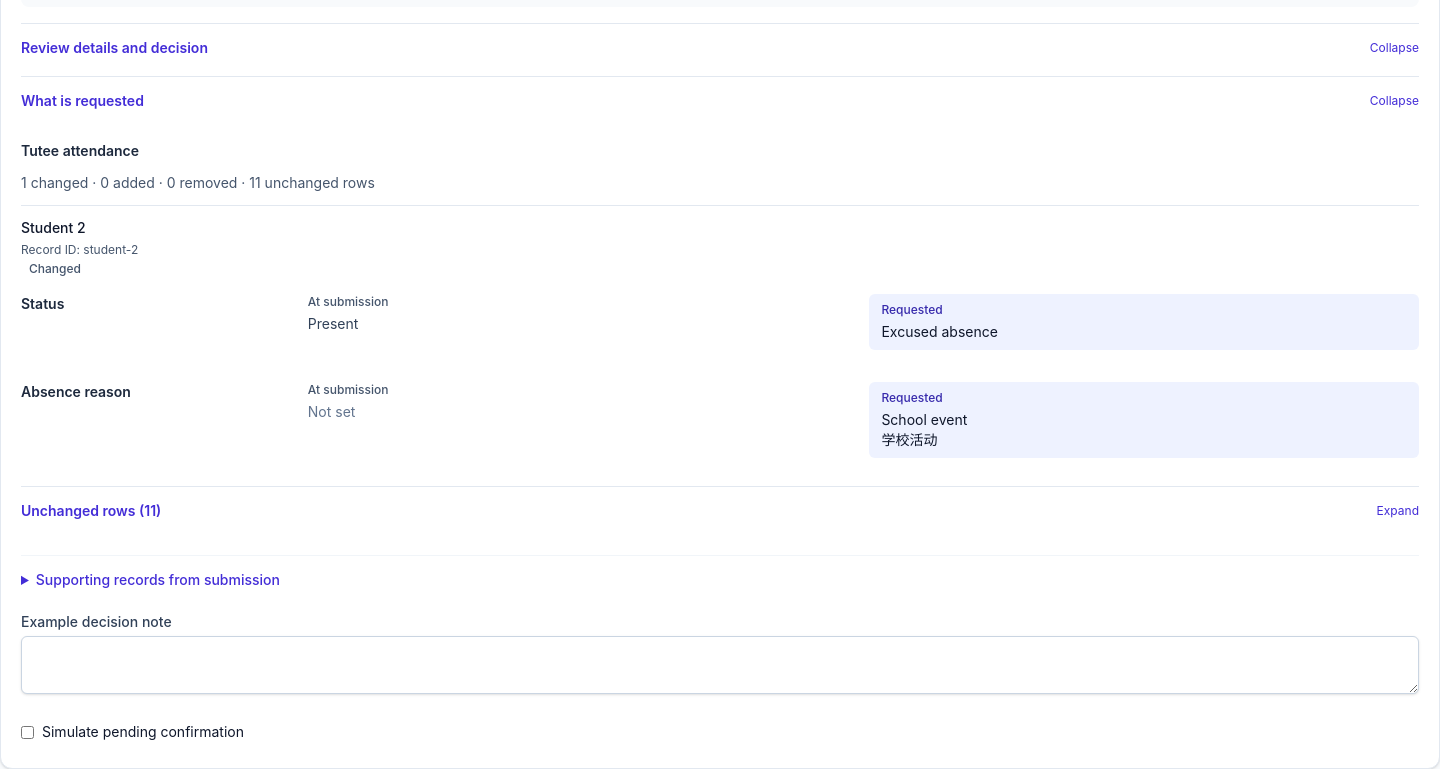
it: shows one changed attendance child and keeps the unchanged roster expandable (en)
(page scrolled)
Click the button "Unchanged rows (11) Expand": (91, 510) [21,495,1419,527]
(page scrolled)
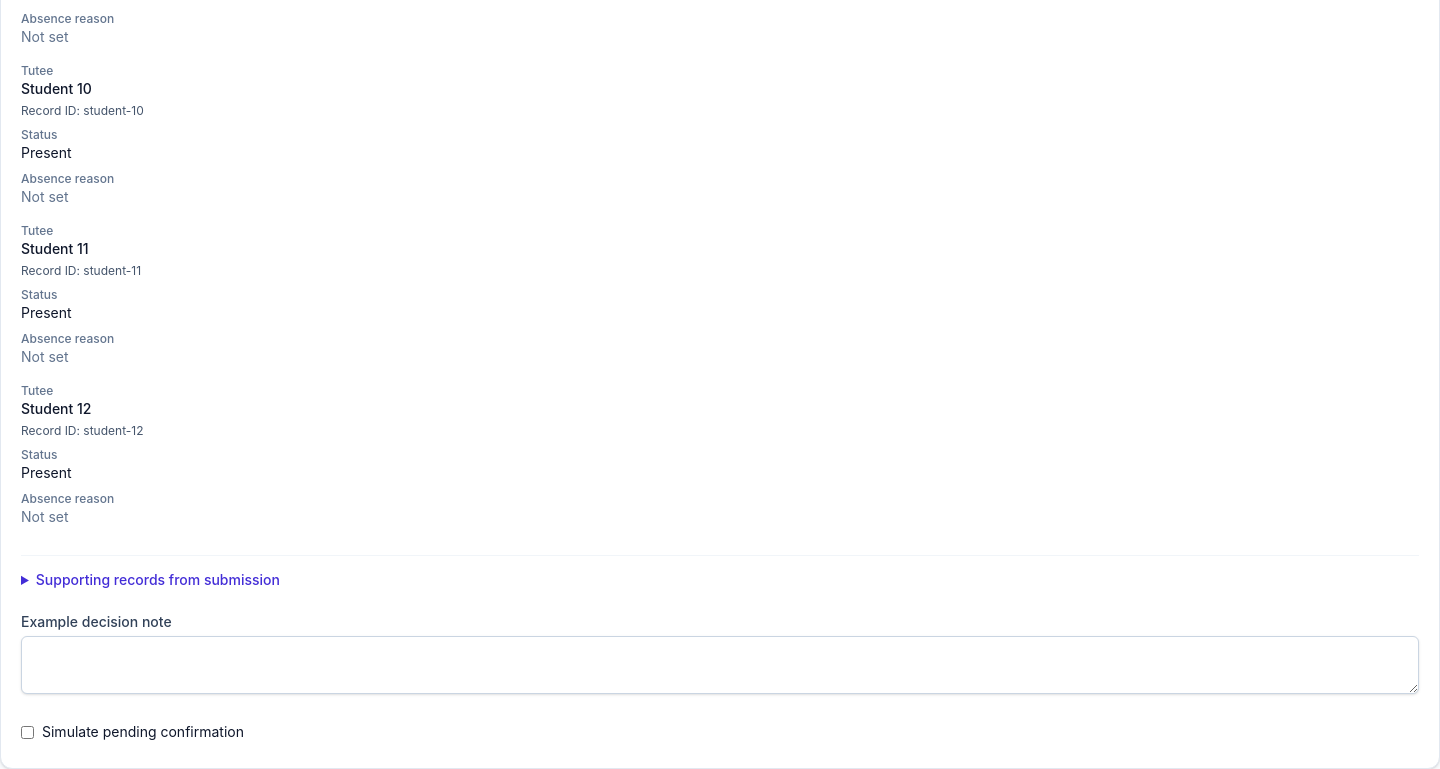
Now the text "Student 12" is shown, box [21,400,92,417]
